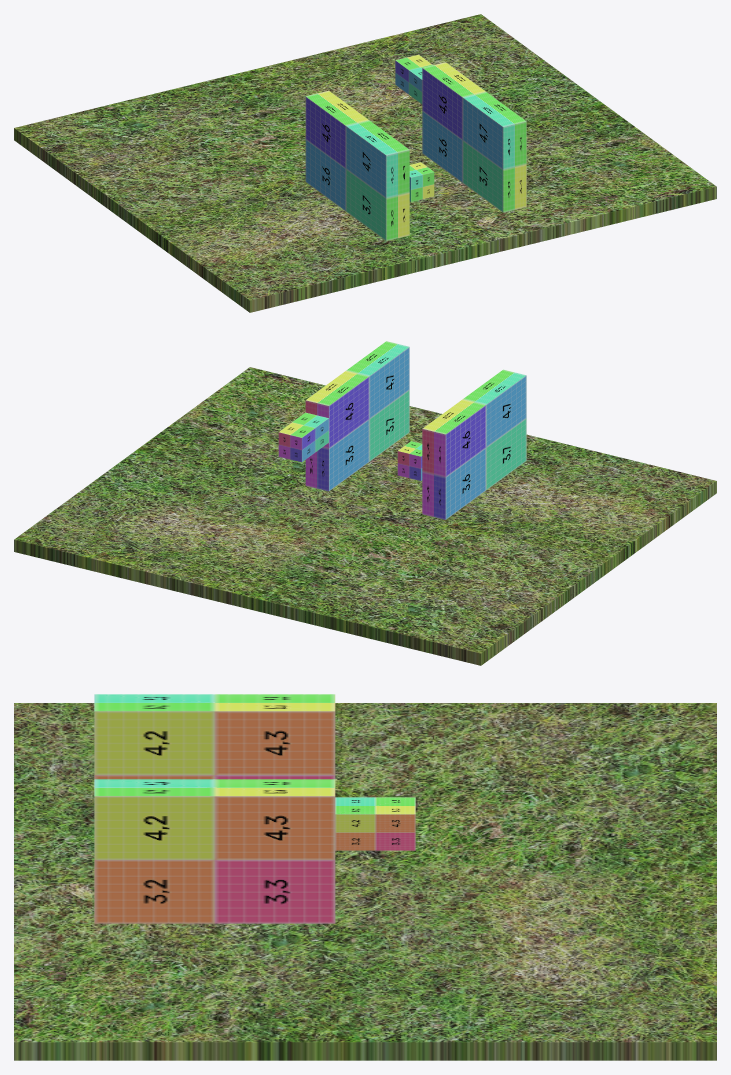
Rendered from LandPlate.gltf.
The picture shows the model from 3 angles, top to bottom: view 1: azimuth 30°, elevation 25°; view 2: azimuth 150°, elevation 25°; view 3: azimuth 270°, elevation 25°; orthographic projection. The views are drawn at different scales.
Parts seen in each view (by area): view 1: 立方体, 立方体.002, 立方体.001, 立方体.004, 立方体.003; view 2: 立方体, 立方体.002, 立方体.001, 立方体.004, 立方体.003; view 3: 立方体, 立方体.001, 立方体.002, 立方体.004.
Boxes of the visible parts, bbox=[...] form: 立方体: bbox=[14, 14, 716, 312]; 立方体.002: bbox=[305, 90, 409, 240]; 立方体.001: bbox=[422, 62, 526, 212]; 立方体.004: bbox=[395, 54, 432, 103]; 立方体.003: bbox=[409, 162, 434, 201]; 立方体: bbox=[14, 367, 716, 665]; 立方体.002: bbox=[422, 369, 526, 519]; 立方体.001: bbox=[305, 341, 409, 491]; 立方体.004: bbox=[278, 412, 328, 462]; 立方体.003: bbox=[397, 441, 422, 480]; 立方体: bbox=[14, 703, 716, 1060]; 立方体.001: bbox=[94, 779, 335, 923]; 立方体.002: bbox=[94, 694, 335, 779]; 立方体.004: bbox=[335, 797, 415, 850].
Size of the model in its own units: 40 by 8 by 35.
Materials: 2 (2 with a texture image).
